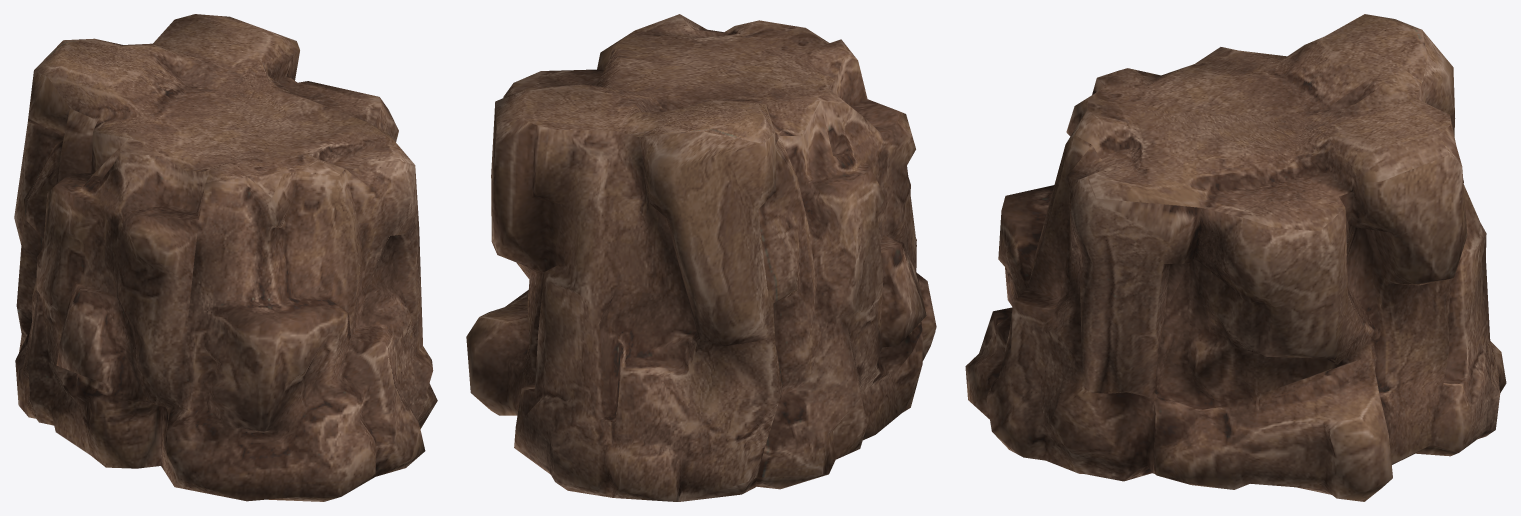
File: SC_huangmo_01.FBX
3 views of the same model, side by side, from view 1: azimuth 30°, elevation 25°; view 2: azimuth 150°, elevation 25°; view 3: azimuth 270°, elevation 25° (orthographic). The views are drawn at different scales.
Parts seen in each view (by area): view 1: SC_huangmo_01; view 2: SC_huangmo_01; view 3: SC_huangmo_01.
Boxes of the visible parts, <box> form: SC_huangmo_01: <box>14,14,437,501</box>; SC_huangmo_01: <box>466,14,936,501</box>; SC_huangmo_01: <box>965,14,1506,501</box>.
Bounding box in the file's own units: 1781 × 1702 × 2225.
